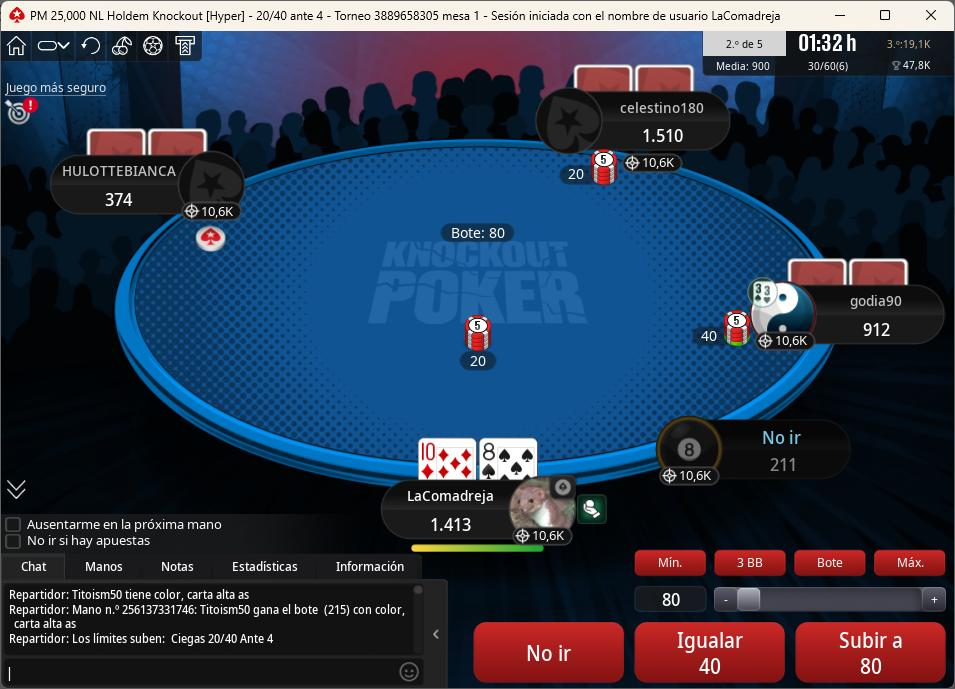ButtonCall: (632, 618, 787, 685)
ButtonFold: (472, 620, 631, 685)
ButtonMaxRaise: (873, 547, 948, 579)
ButtonMinRaise: (633, 547, 711, 580)
ButtonPotRaise: (794, 546, 866, 578)
ButtonRaise: (793, 618, 952, 684)
Dealer: (192, 221, 234, 255)
HiddenCards: (83, 132, 211, 160), (575, 67, 701, 95), (786, 259, 913, 286)
Player: (746, 284, 951, 353), (657, 420, 857, 488), (49, 151, 247, 216), (543, 89, 733, 155)
PlayerBet: (688, 308, 758, 351)
PlayerChips: (763, 454, 808, 476), (856, 321, 899, 343), (95, 191, 140, 211)
Pot: (438, 223, 518, 245)
PrincipalCards: (413, 438, 542, 484)
PrincipalCards1: (417, 438, 478, 483)
PrincipalCards2: (478, 436, 539, 483)
PrincipalPlayer: (380, 474, 583, 551)
PrincipalPlayerChips: (421, 516, 483, 537)
SmallBigBlind: (246, 5, 333, 27)
TablePot: (451, 309, 518, 379)
